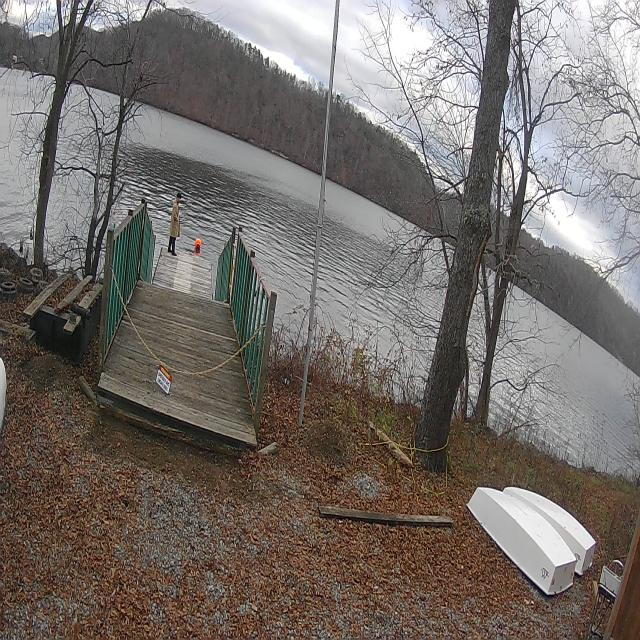Buoy: (194, 236, 203, 252)
